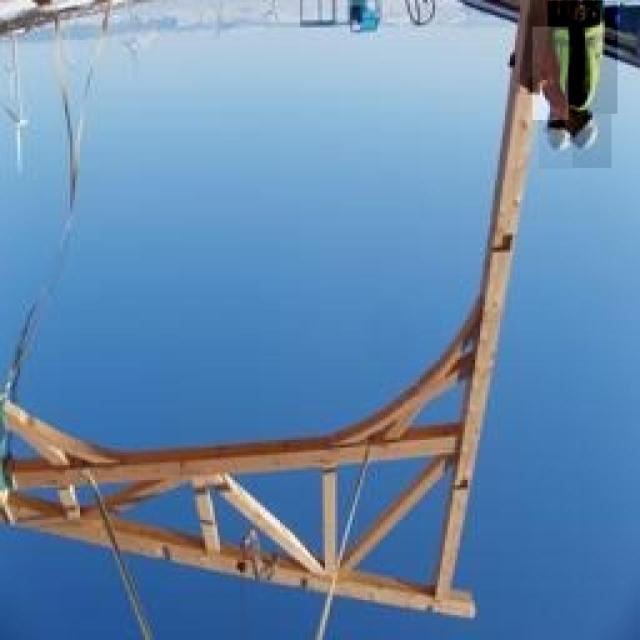Helmet: (532, 27, 568, 120), (562, 105, 612, 168), (538, 105, 572, 169)
Safety Vest: (548, 1, 618, 114)
